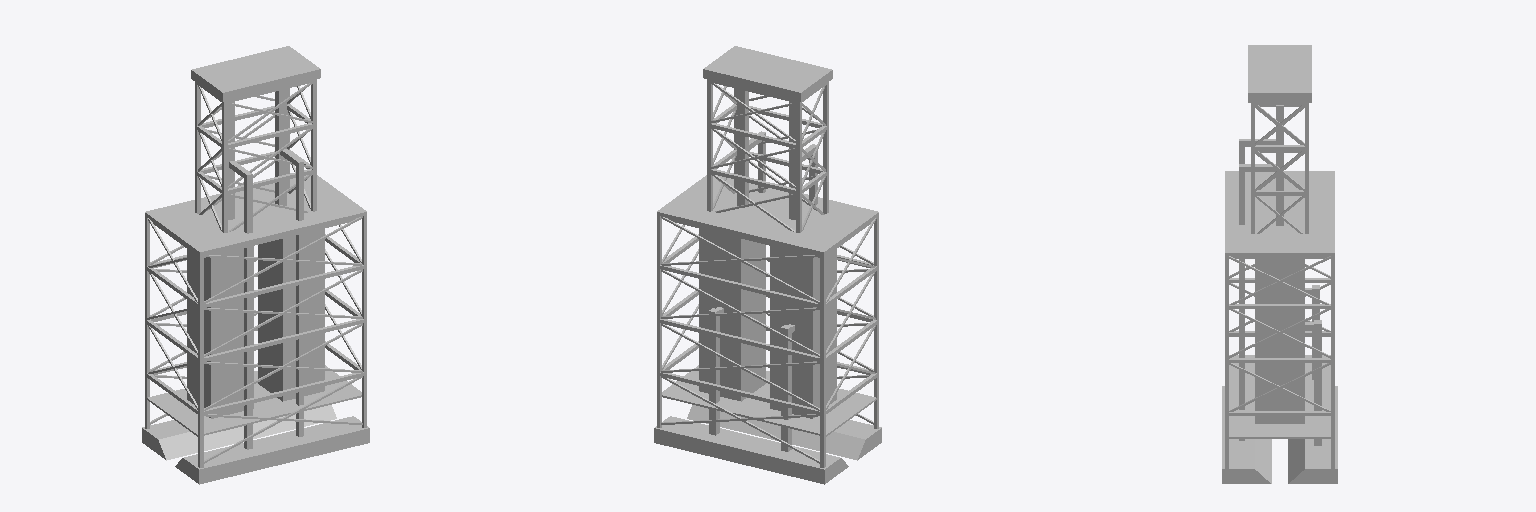
File: coker_unit.obj
The picture shows the model from 3 angles: view 1: azimuth 30°, elevation 25°; view 2: azimuth 150°, elevation 25°; view 3: azimuth 270°, elevation 25°; orthographic projection.
Visible parts, largest first — view 1: cube; view 2: cube; view 3: cube.
Boxes of the visible parts, <box> form: cube: <box>142,46,369,484</box>; cube: <box>654,46,881,484</box>; cube: <box>1222,45,1337,483</box>.
Size of the model in its own units: 12 by 25.06 by 7.